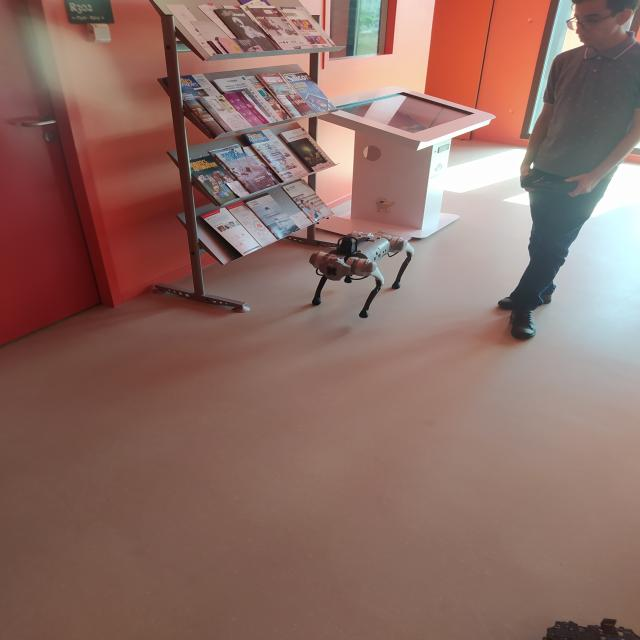unitree-go1-robot: (299, 215, 427, 323)
